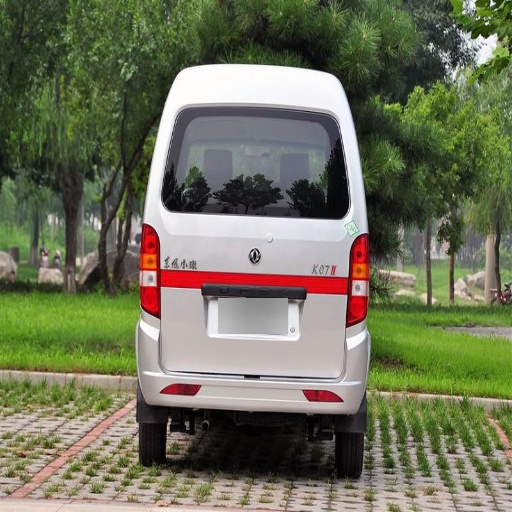back_bumper: (137, 313, 364, 411)
tailgate: (222, 216, 314, 242)
trunk: (143, 212, 352, 374)
